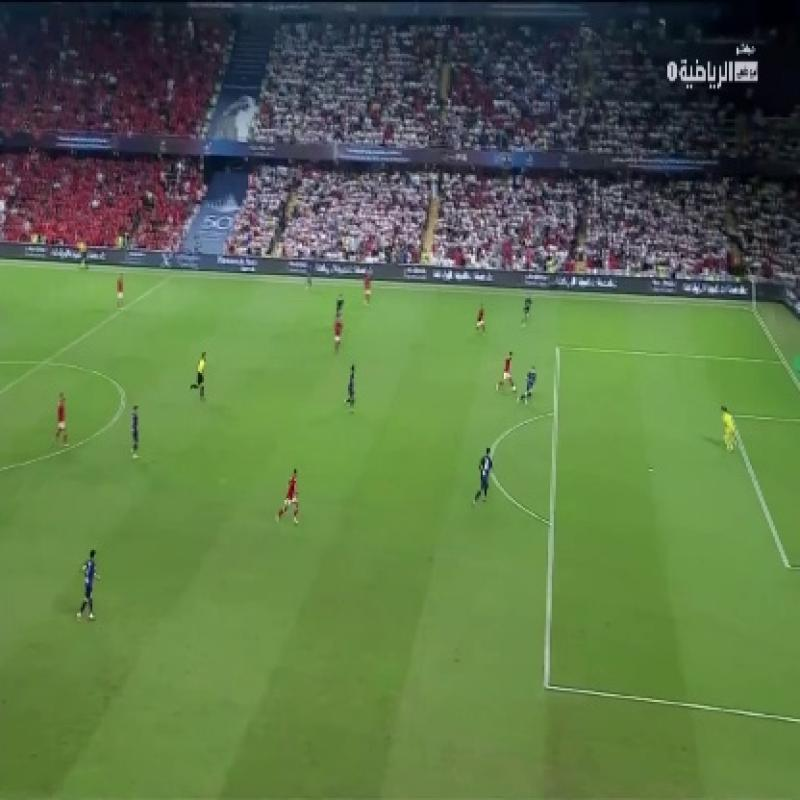1: (741, 301, 763, 320)
10: (548, 406, 558, 420)
11: (544, 513, 554, 529)
12: (540, 672, 552, 690)
13: (159, 268, 186, 288)
14: (38, 356, 48, 368)
2: (774, 352, 792, 372)
8: (780, 552, 794, 573)
9: (552, 340, 562, 354)
c: (98, 405, 130, 433)
